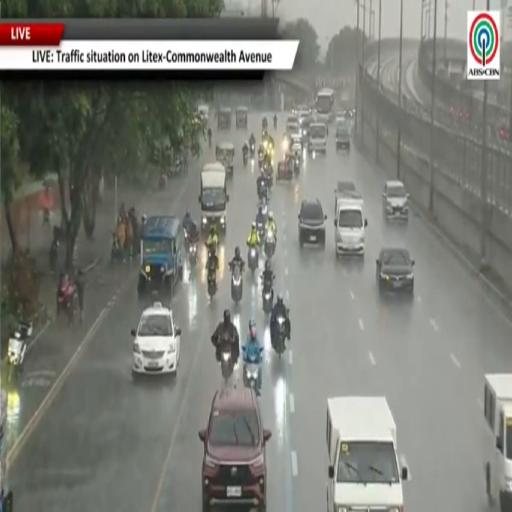bus: (315, 89, 335, 123)
car: (199, 388, 271, 511), (131, 302, 181, 375), (376, 248, 414, 296), (298, 200, 326, 247), (382, 181, 409, 220), (336, 122, 350, 151), (290, 133, 302, 153)
jeepney: (138, 216, 184, 298), (216, 142, 235, 174), (217, 108, 232, 130), (236, 106, 248, 129)
motorcycle: (8, 322, 32, 380), (243, 347, 263, 393), (57, 286, 79, 325), (271, 315, 285, 358), (230, 263, 242, 303), (221, 343, 233, 382), (111, 233, 124, 263), (262, 283, 273, 314), (49, 237, 59, 271), (207, 268, 217, 297), (265, 230, 275, 259), (248, 247, 258, 273), (264, 165, 273, 191), (257, 180, 267, 201), (256, 221, 264, 244), (189, 243, 197, 265), (294, 155, 300, 177), (261, 202, 267, 222), (159, 173, 166, 190), (258, 150, 264, 168), (250, 142, 255, 157), (243, 152, 248, 167), (262, 118, 267, 132), (274, 117, 277, 130), (209, 135, 211, 148)
truck: (327, 396, 408, 511), (484, 374, 511, 511), (334, 188, 367, 255), (199, 163, 229, 232)
